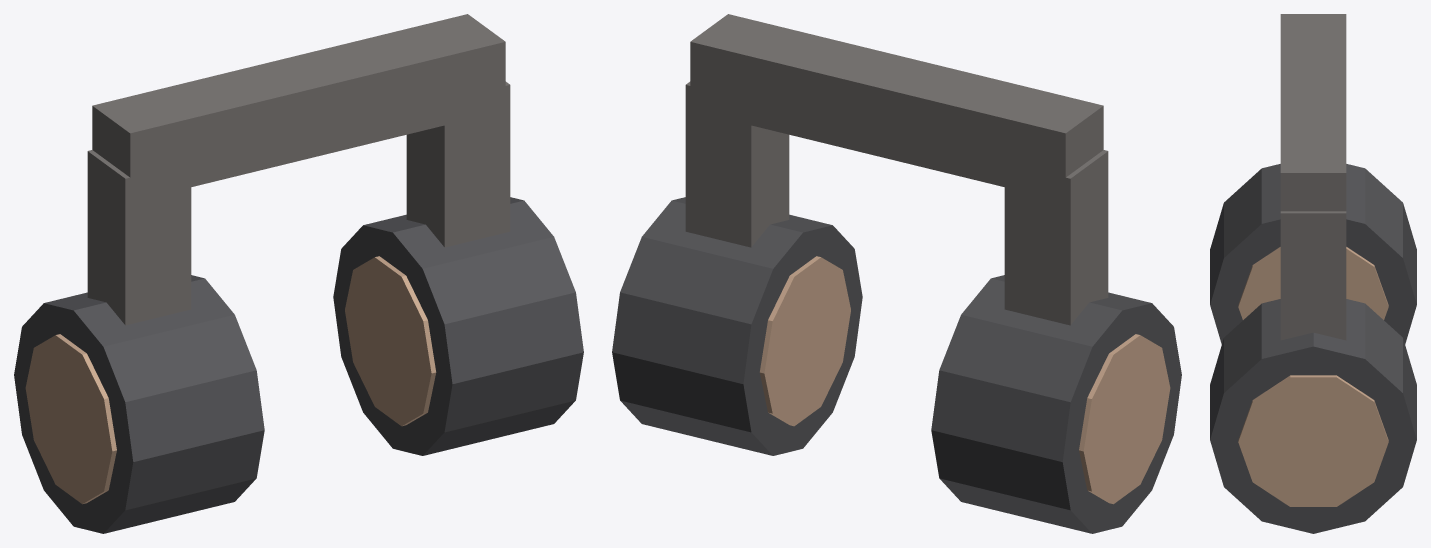
File: elet_fone.glb
3 renders of one model, left to right at view 1: azimuth 30°, elevation 25°; view 2: azimuth 150°, elevation 25°; view 3: azimuth 270°, elevation 25°, orthographic. The views are drawn at different scales.
Parts seen in each view (by area): view 1: ELET_FONE_v01; view 2: ELET_FONE_v01; view 3: ELET_FONE_v01.
Part boxes in pixels (x1,y1,x2,y2): ELET_FONE_v01: (14,14,583,533); ELET_FONE_v01: (612,14,1181,533); ELET_FONE_v01: (1210,14,1416,533).
Size of the model in its own units: 0.245 by 0.2025 by 0.11.
